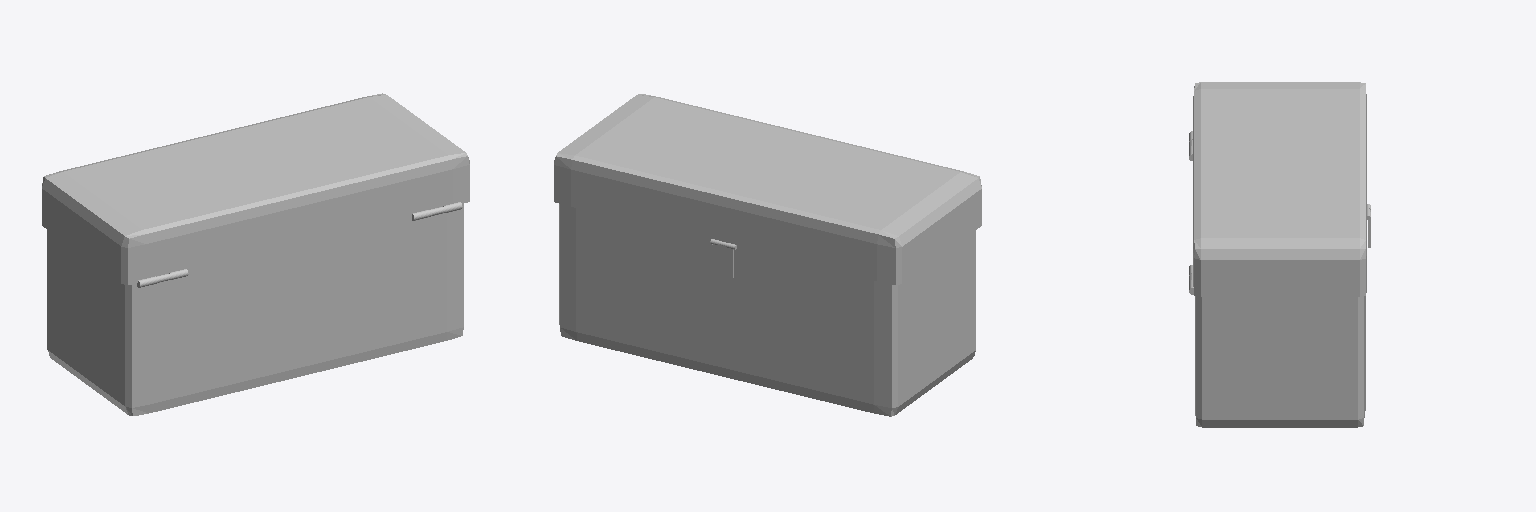
Rendered from chest.obj.
3 renders of one model, left to right at view 1: azimuth 30°, elevation 25°; view 2: azimuth 150°, elevation 25°; view 3: azimuth 270°, elevation 25°, orthographic.
Parts seen in each view (by area): view 1: ящик_Куб.001; view 2: ящик_Куб.001; view 3: ящик_Куб.001.
Part boxes in pixels (bbox=[...]): ящик_Куб.001: bbox=[42, 93, 469, 415]; ящик_Куб.001: bbox=[554, 94, 981, 416]; ящик_Куб.001: bbox=[1189, 82, 1370, 427].
Bounding box in the file's own units: 3.93 × 1.99 × 1.78.